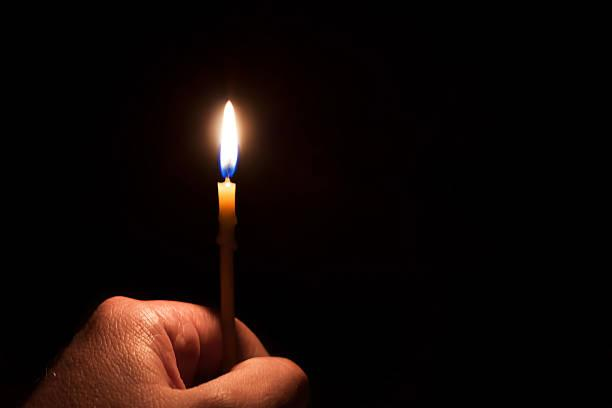Fire: (218, 96, 242, 177)
